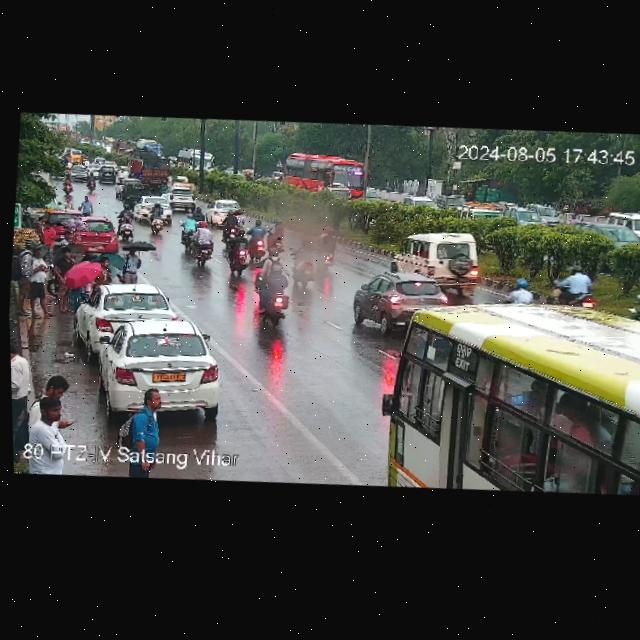bus: (375, 284, 640, 507)
car: (74, 307, 231, 427), (75, 276, 184, 345), (341, 265, 449, 334), (393, 227, 487, 294), (40, 209, 125, 258), (606, 208, 640, 255), (205, 196, 248, 225), (163, 185, 198, 211), (64, 162, 97, 182)
motorcycle: (248, 247, 301, 328), (290, 222, 344, 296), (554, 269, 597, 312), (187, 221, 225, 267), (504, 277, 549, 308), (224, 225, 253, 273), (242, 218, 268, 262), (221, 208, 250, 245), (147, 203, 170, 234), (82, 172, 102, 193)
person: (119, 384, 179, 481), (10, 331, 45, 460), (18, 244, 60, 320), (24, 401, 78, 453), (36, 370, 72, 421), (118, 246, 147, 285), (116, 204, 139, 245), (61, 194, 95, 219), (95, 254, 118, 286)
truck: (271, 147, 373, 207), (122, 146, 176, 189)
